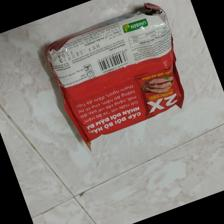3mien: (45, 3, 185, 152)
